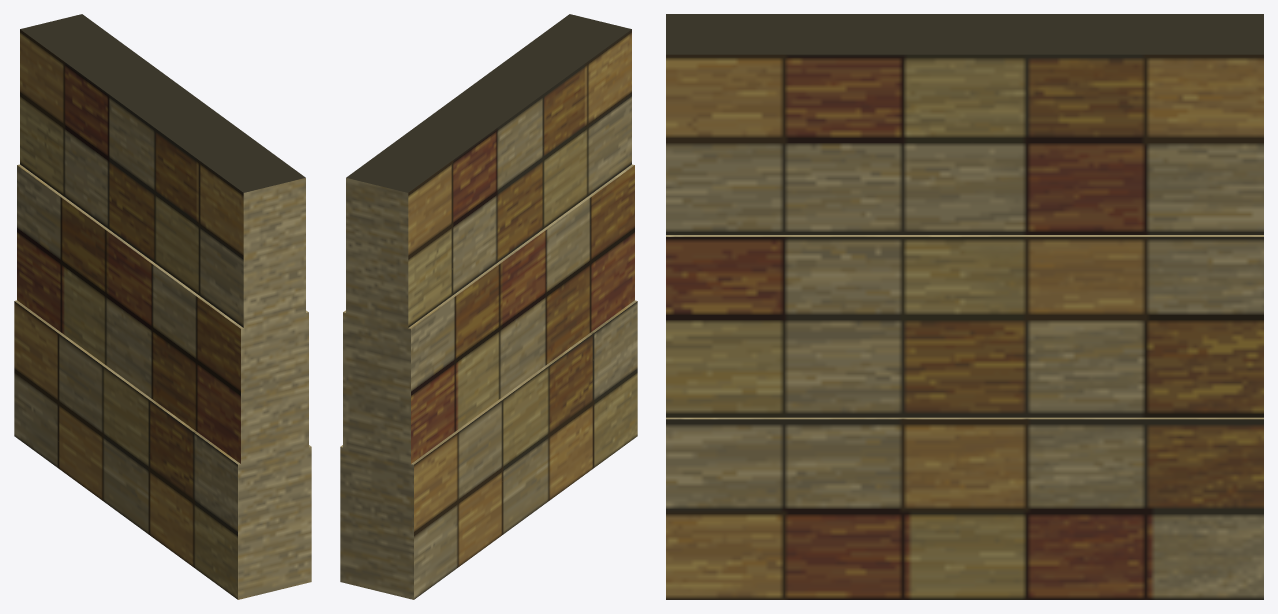
The model's file is Wall Style 2_V3 (1).fbx.
3 views of the same model, side by side, from view 1: azimuth 30°, elevation 25°; view 2: azimuth 150°, elevation 25°; view 3: azimuth 270°, elevation 25° (orthographic). The views are drawn at different scales.
Parts seen in each view (by area): view 1: Wall Style 2_V2.001; view 2: Wall Style 2_V2.001; view 3: Wall Style 2_V2.001.
Boxes of the visible parts, x1,y1,x2,y2 form: Wall Style 2_V2.001: (14,14,311,599); Wall Style 2_V2.001: (340,14,637,599); Wall Style 2_V2.001: (666,14,1263,599).
Size of the model in its own units: 18.99 by 100 by 100.
